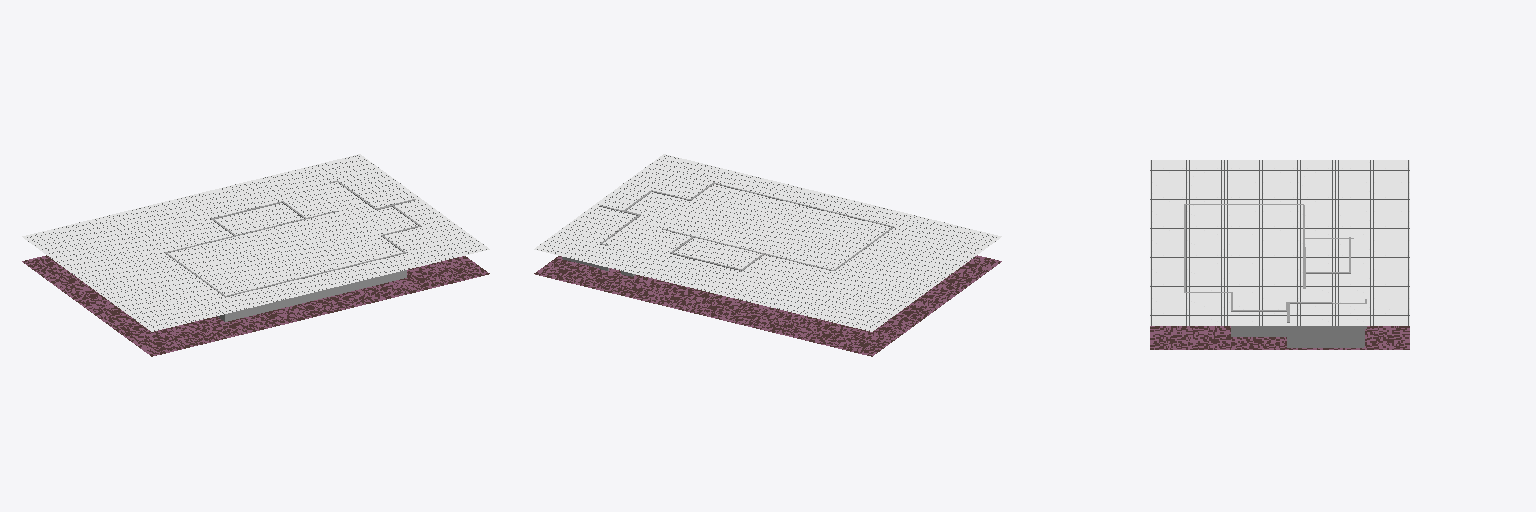
3 views of the same model, side by side, from view 1: azimuth 30°, elevation 25°; view 2: azimuth 150°, elevation 25°; view 3: azimuth 270°, elevation 25° (orthographic).
Visible parts, largest first — view 1: plafond_Plane.001, Vloer_Plane, Cube.008; view 2: plafond_Plane.001, Vloer_Plane; view 3: plafond_Plane.001, Vloer_Plane, Cube.016, Cube.004.
Boxes of the visible parts, <box> form: plafond_Plane.001: <box>22,154,489,331</box>; Vloer_Plane: <box>22,255,489,356</box>; Cube.008: <box>224,252,404,321</box>; plafond_Plane.001: <box>534,154,1001,331</box>; Vloer_Plane: <box>534,255,1001,356</box>; plafond_Plane.001: <box>1150,160,1409,325</box>; Vloer_Plane: <box>1150,326,1409,349</box>; Cube.016: <box>1290,326,1363,347</box>; Cube.004: <box>1231,310,1286,336</box>.
Size of the model in its own units: 90 by 7 by 60.
Materials: 3 (2 with a texture image).